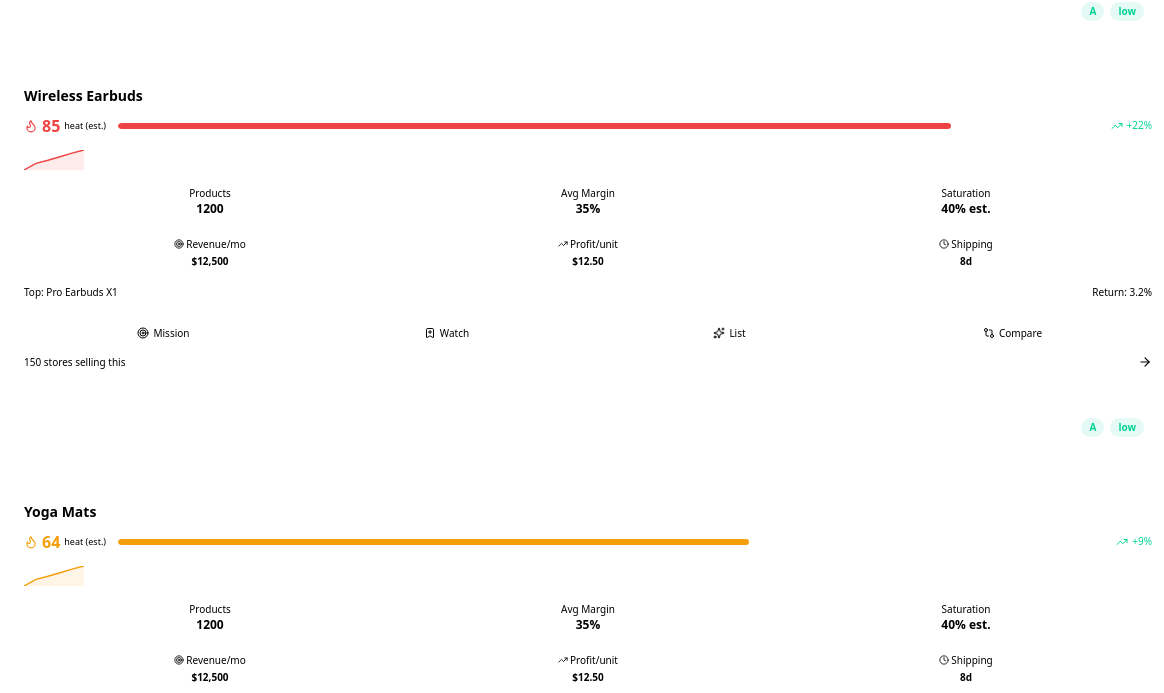
Test case: NichesPage › discloses that scores, heat and price ranges are catalog-based estimates in the compare panel
(page scrolled)
Click the button titled "Compare". click: [1012, 333]
box: 873,320 -> 1152,346
(page scrolled)
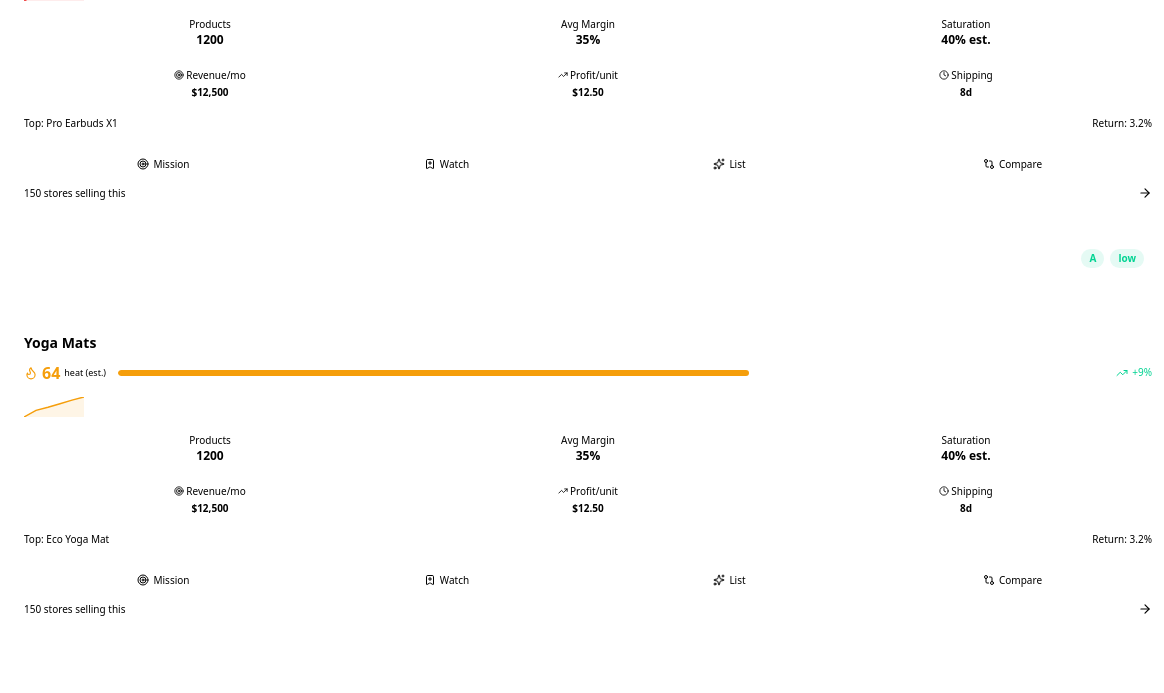
Click the button titled "Compare" below "+9%". click: [1012, 580]
box: 873,566 -> 1152,594
(page scrolled)
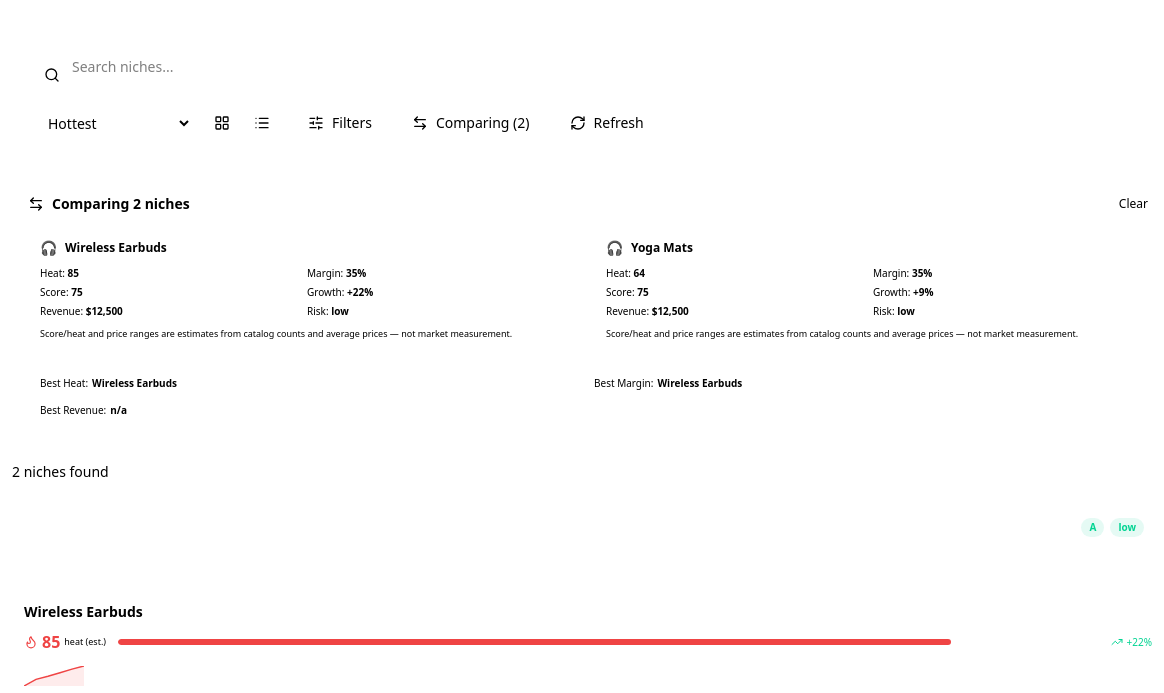
expect the 1st text "Score/heat and price ranges are estimates from catalog counts and average prices — not market measurement." is shown: met, box 40,326 -> 512,340
